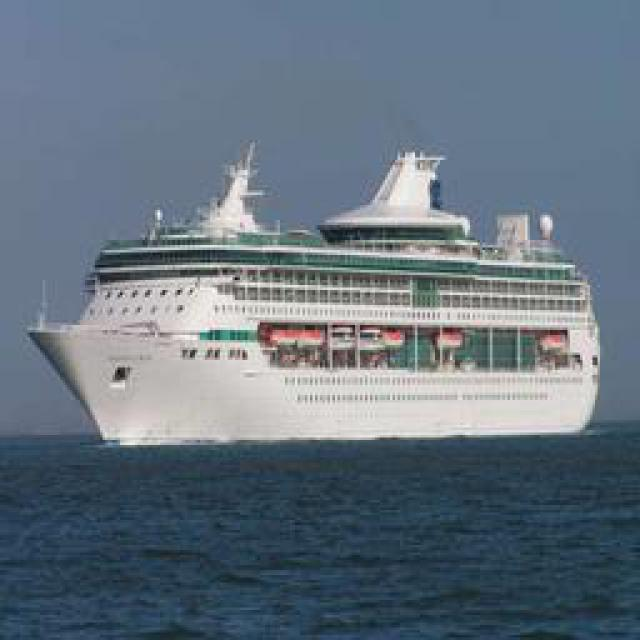Ship: (12, 146, 610, 444)
